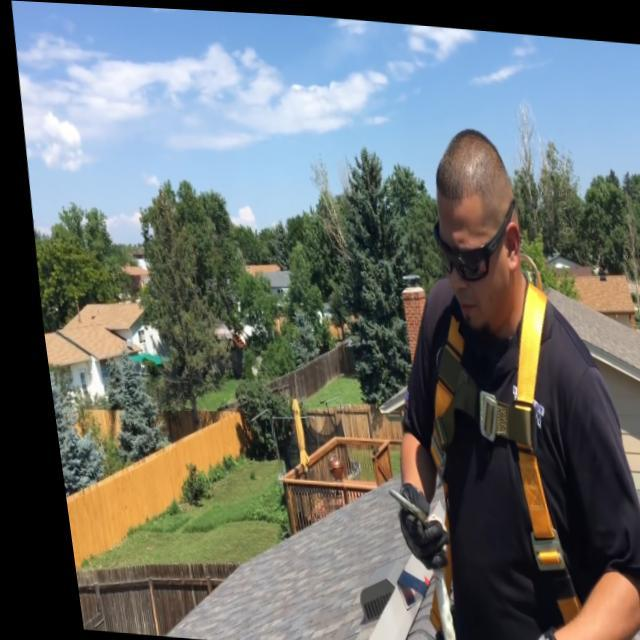belt: (359, 248, 616, 640)
